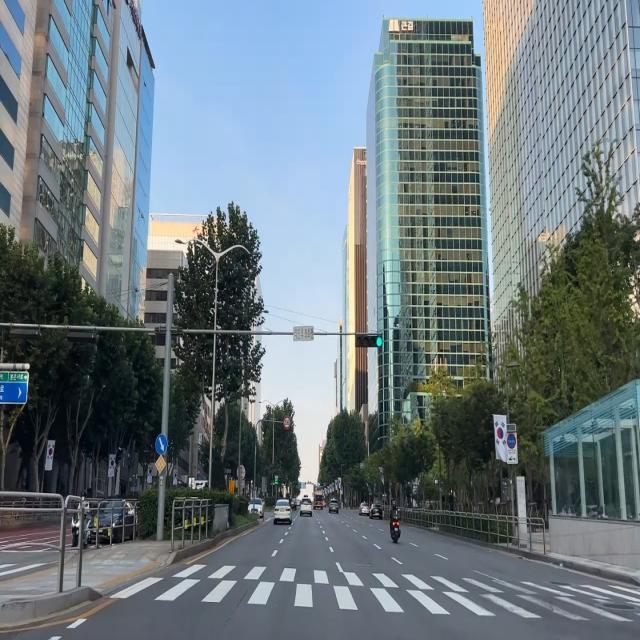Green Light: (376, 336, 382, 348)
